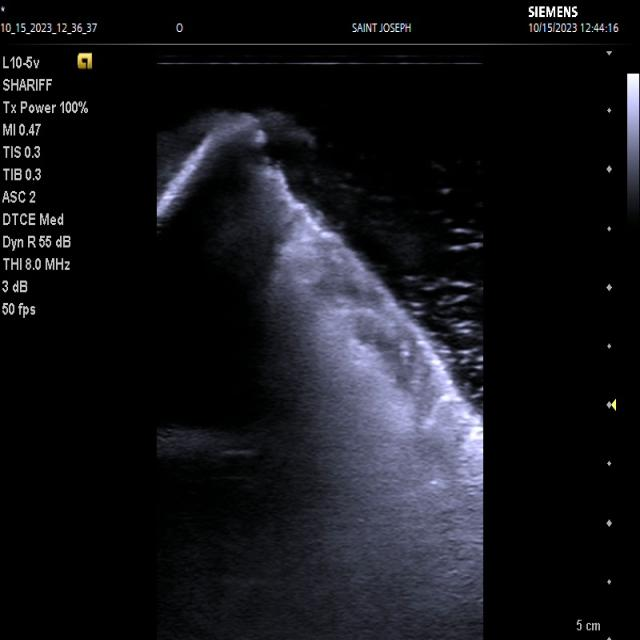tissue: (154, 114, 483, 640)
